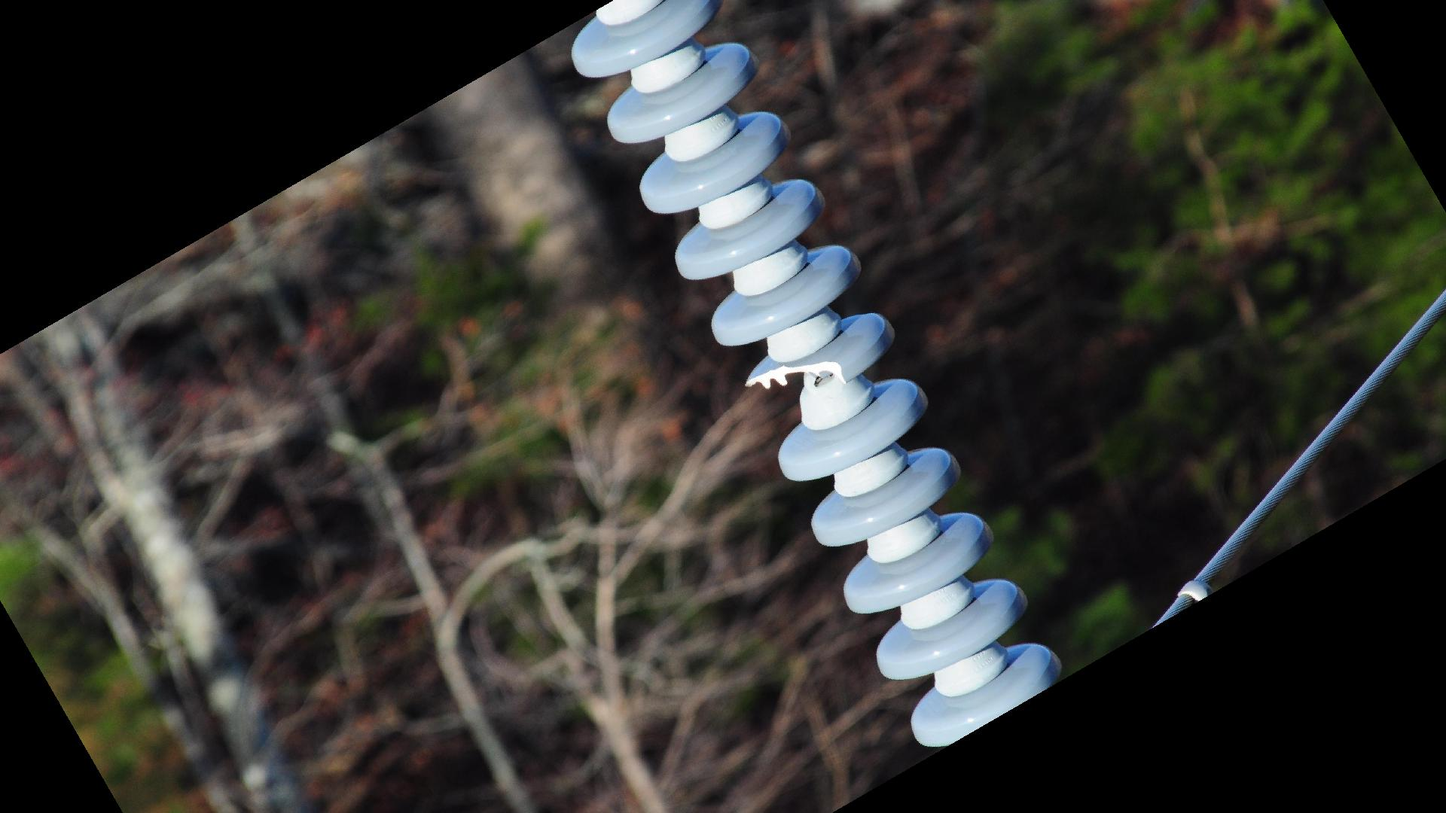insulator: (566, 1, 1072, 753)
insulator_breakage: (737, 354, 853, 397)
